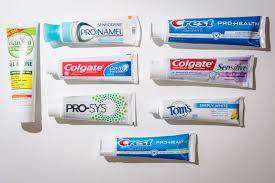toothpaste: (1, 18, 40, 126), (152, 17, 270, 48), (44, 52, 144, 88), (148, 94, 250, 129), (99, 131, 200, 164), (46, 94, 142, 128), (42, 17, 151, 46), (149, 58, 261, 85)
